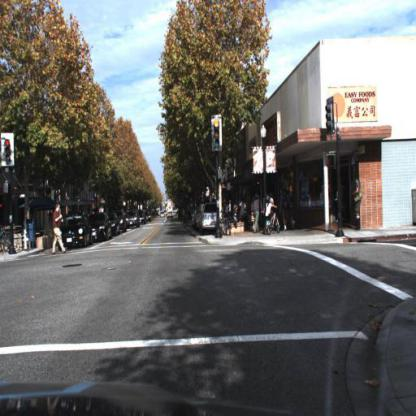car: (59, 214, 93, 251), (199, 200, 223, 239), (88, 212, 115, 239), (111, 214, 127, 236), (120, 211, 135, 231)
pedestrian: (278, 181, 299, 237), (261, 193, 283, 241), (352, 171, 366, 232), (51, 203, 64, 257), (249, 188, 263, 236), (252, 187, 264, 237), (281, 186, 293, 233), (264, 195, 275, 235), (182, 207, 187, 223), (29, 211, 35, 219)
trafficLight: (210, 114, 224, 156), (2, 130, 15, 171)
